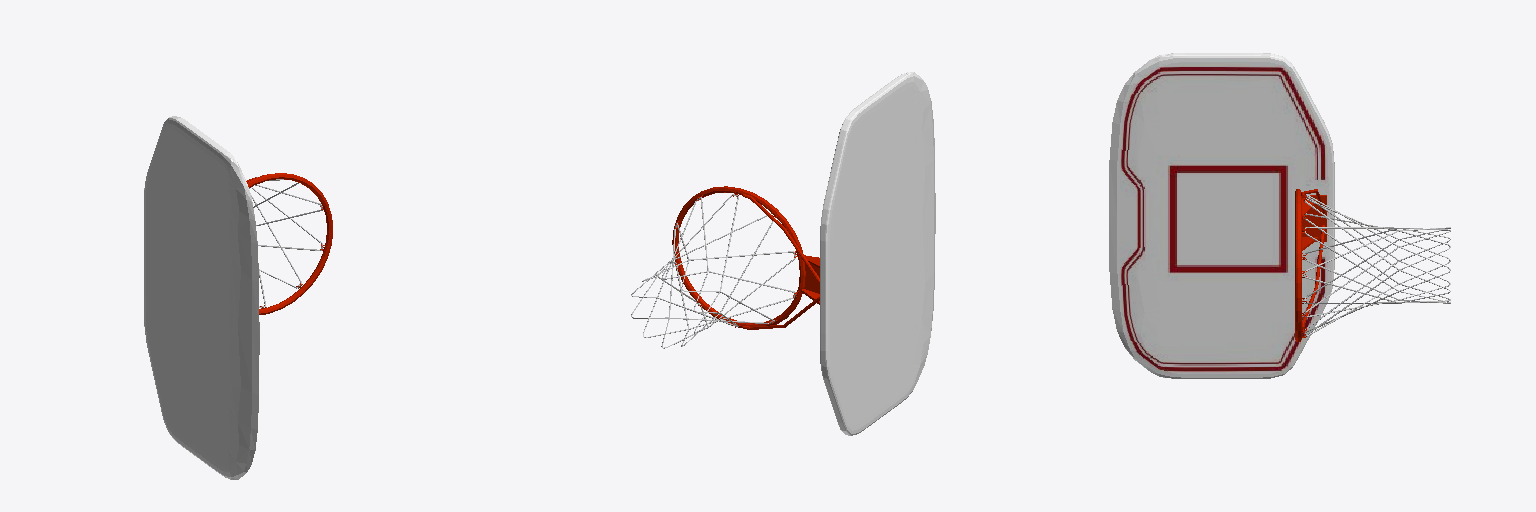
The picture shows the model from 3 angles: view 1: azimuth 30°, elevation 25°; view 2: azimuth 150°, elevation 25°; view 3: azimuth 270°, elevation 25°; orthographic projection.
Visible parts, largest first — view 1: Cube, BezierCircle_Mesh, Circle.001; view 2: Cube, Circle.001, BezierCircle_Mesh, Cube.001; view 3: Cube, Circle.001, Cube.001, BezierCircle_Mesh.
Part boxes in pixels (x1,y1,x2,y2): Cube: (144,116,259,479); BezierCircle_Mesh: (247,173,332,314); Circle.001: (249,177,322,307); Cube: (820,72,935,435); Circle.001: (631,194,795,348); BezierCircle_Mesh: (672,186,805,327); Cube.001: (743,194,819,329); Cube: (1109,53,1334,378); Circle.001: (1305,194,1450,336); Cube.001: (1301,189,1326,328); BezierCircle_Mesh: (1295,189,1301,341).
Bounding box in the file's own units: 60.86 × 109 × 105.
Materials: 3 (1 with a texture image).